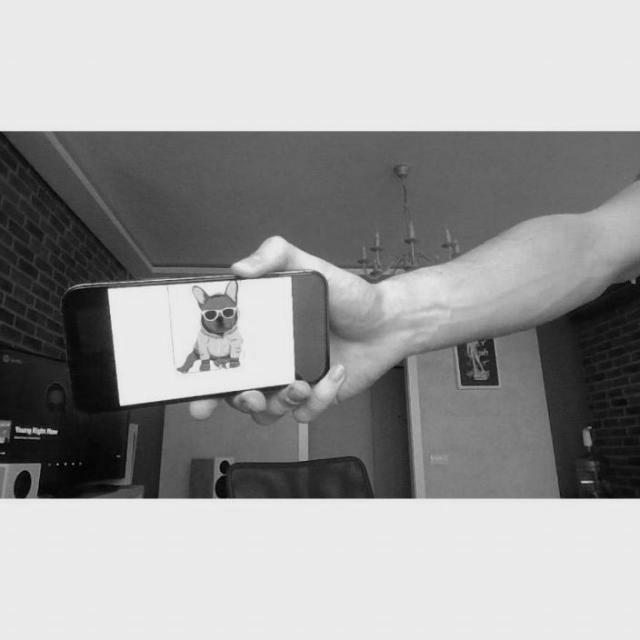fake: (60, 263, 336, 417)
